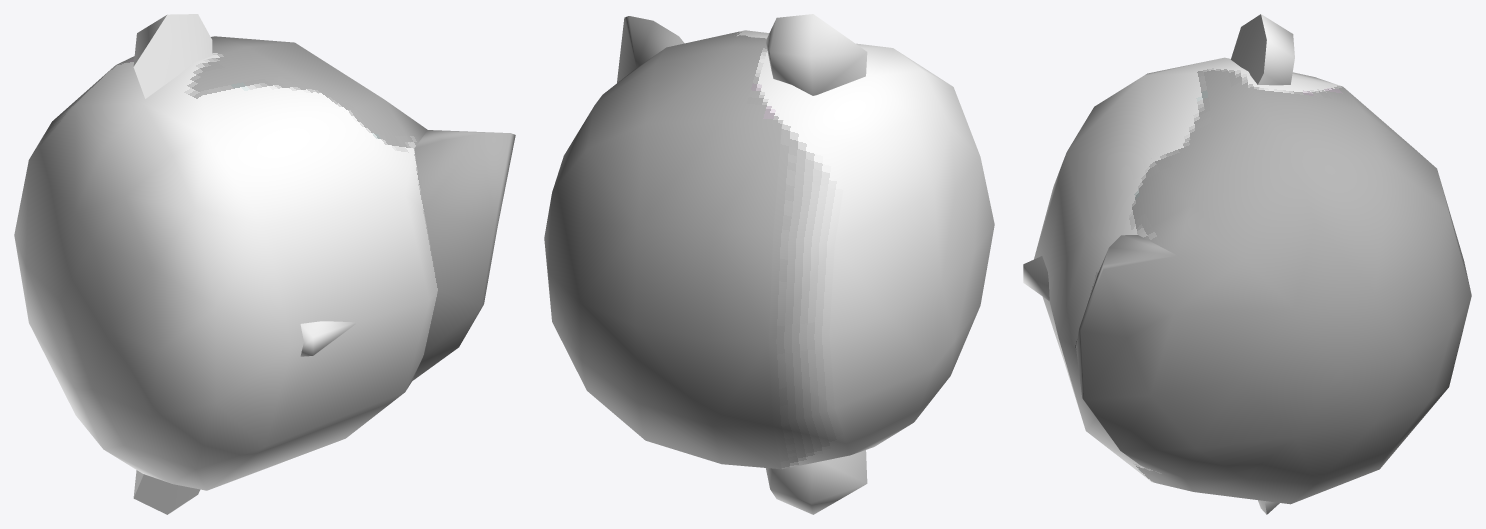
File: boy01a.dae
The picture shows the model from 3 angles, left to right: view 1: azimuth 30°, elevation 25°; view 2: azimuth 150°, elevation 25°; view 3: azimuth 270°, elevation 25°; orthographic projection.
Parts seen in each view (by area): view 1: boy01a; view 2: boy01a; view 3: boy01a.
Boxes of the visible parts, x1,y1,x2,y2 form: boy01a: [14, 14, 515, 514]; boy01a: [544, 14, 994, 514]; boy01a: [1023, 14, 1471, 514].
Bounding box in the file's own units: 21.57 × 26.71 × 21.96.
Materials: 3 (1 with a texture image).
